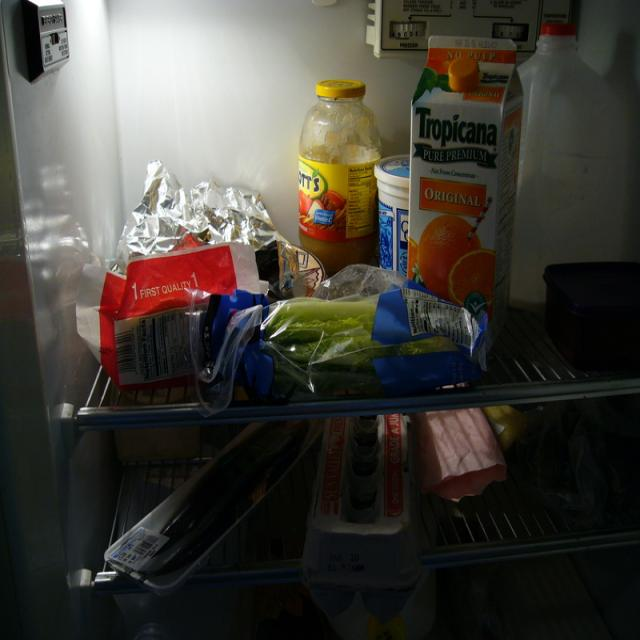container -bottle - packet: (408, 37, 522, 333)
packet: (190, 266, 487, 410), (408, 36, 523, 335), (77, 243, 259, 390)
packet- bottle: (511, 24, 624, 311), (299, 79, 381, 276)
